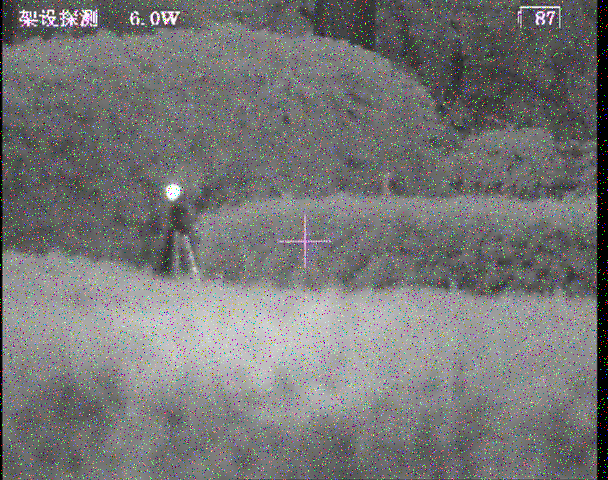my: (164, 182, 181, 202)
